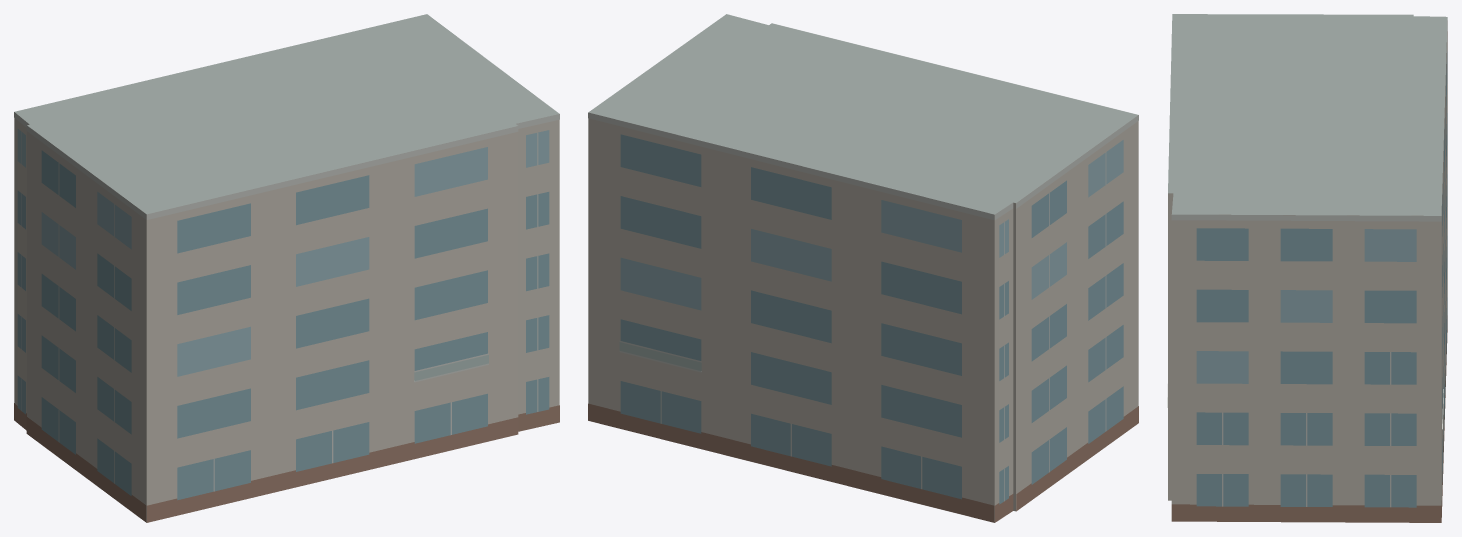
Rendered from survey-upis-32840578.glb.
3 renders of one model, left to right at view 1: azimuth 30°, elevation 25°; view 2: azimuth 150°, elevation 25°; view 3: azimuth 270°, elevation 25°, orthographic.
Visible parts, largest first — view 1: survey-upis-32840578.tmp; view 2: survey-upis-32840578.tmp; view 3: survey-upis-32840578.tmp.
Part boxes in pixels (x1=…): survey-upis-32840578.tmp: x1=14, y1=14, x2=559, y2=522; survey-upis-32840578.tmp: x1=588, y1=14, x2=1138, y2=522; survey-upis-32840578.tmp: x1=1167, y1=14, x2=1447, y2=522.
Bounding box in the file's own units: 18.48 × 13.1 × 10.85.
